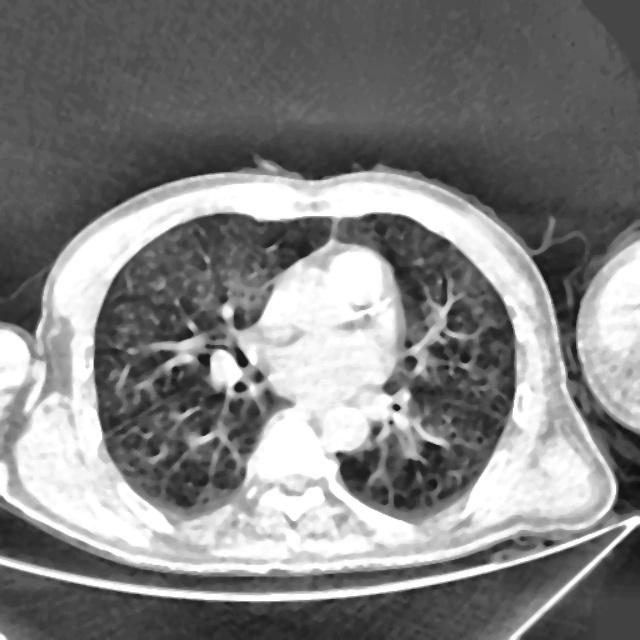covid: (1, 156, 619, 578)
